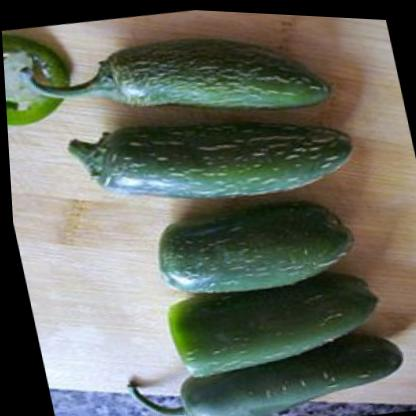chilli_pepper: (1, 5, 343, 149), (48, 87, 369, 232), (113, 321, 416, 416)
